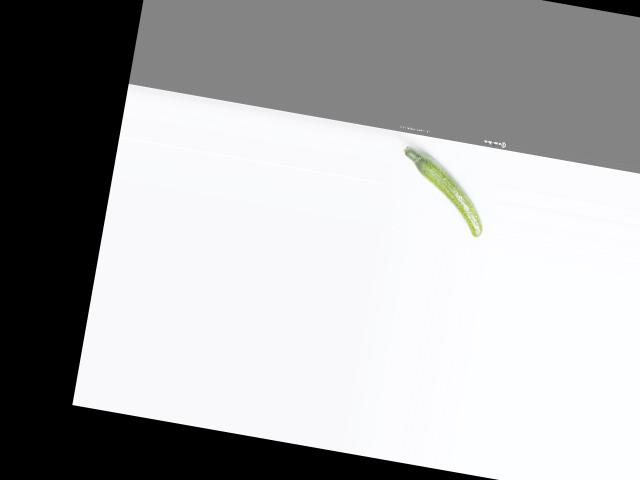cucumber: (390, 145, 493, 237)
